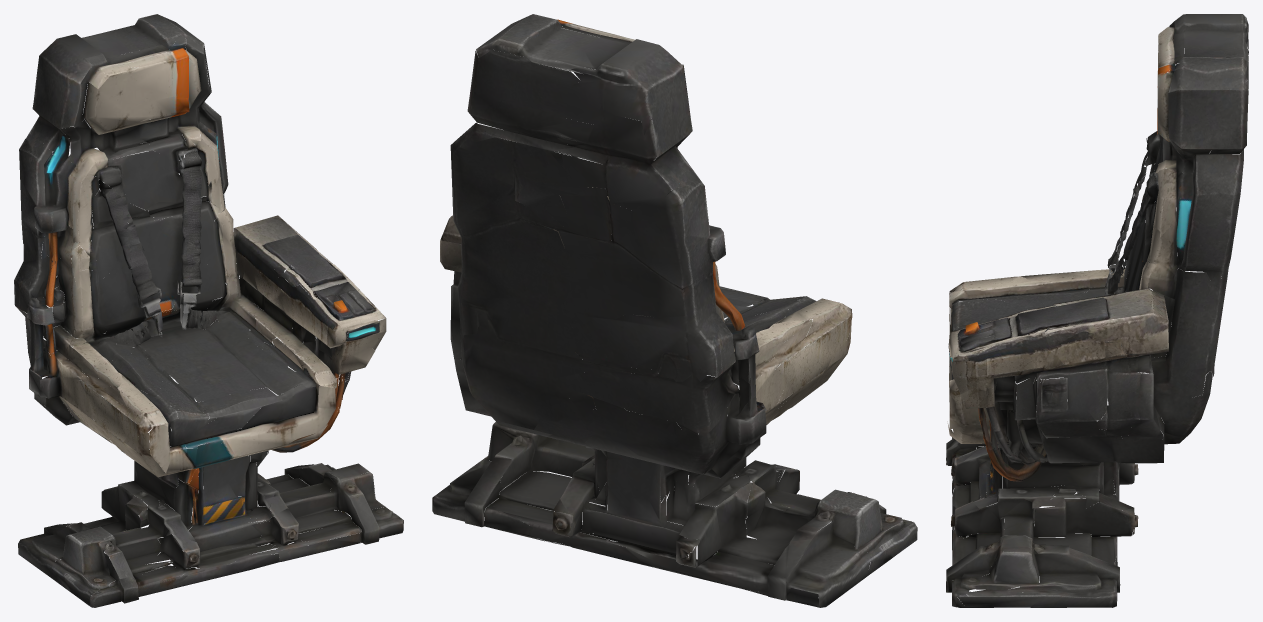
File: ht_chair_ops.glb
3 renders of one model, left to right at view 1: azimuth 30°, elevation 25°; view 2: azimuth 150°, elevation 25°; view 3: azimuth 270°, elevation 25°, orthographic. The views are drawn at different scales.
Visible parts, largest first — view 1: ht_chair_ops; view 2: ht_chair_ops; view 3: ht_chair_ops.
Boxes of the visible parts, x1,y1,x2,y2 form: ht_chair_ops: [14, 14, 403, 607]; ht_chair_ops: [432, 14, 917, 607]; ht_chair_ops: [946, 14, 1248, 607].
Bounding box in the file's own units: 1.06 × 1.45 × 0.8248.
Materials: 1 (1 with a texture image).
